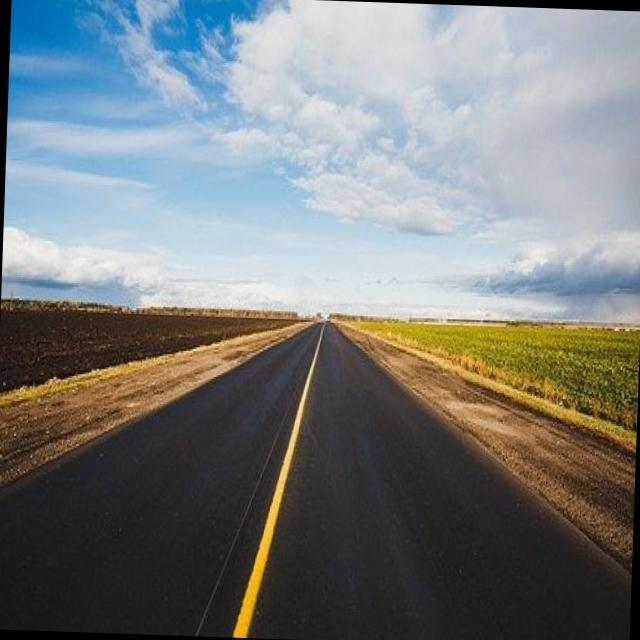asphalt: (0, 324, 631, 640)
grass: (357, 322, 640, 445)
red-sand: (0, 297, 296, 391)
white-sand: (340, 325, 636, 571), (0, 323, 306, 484)
